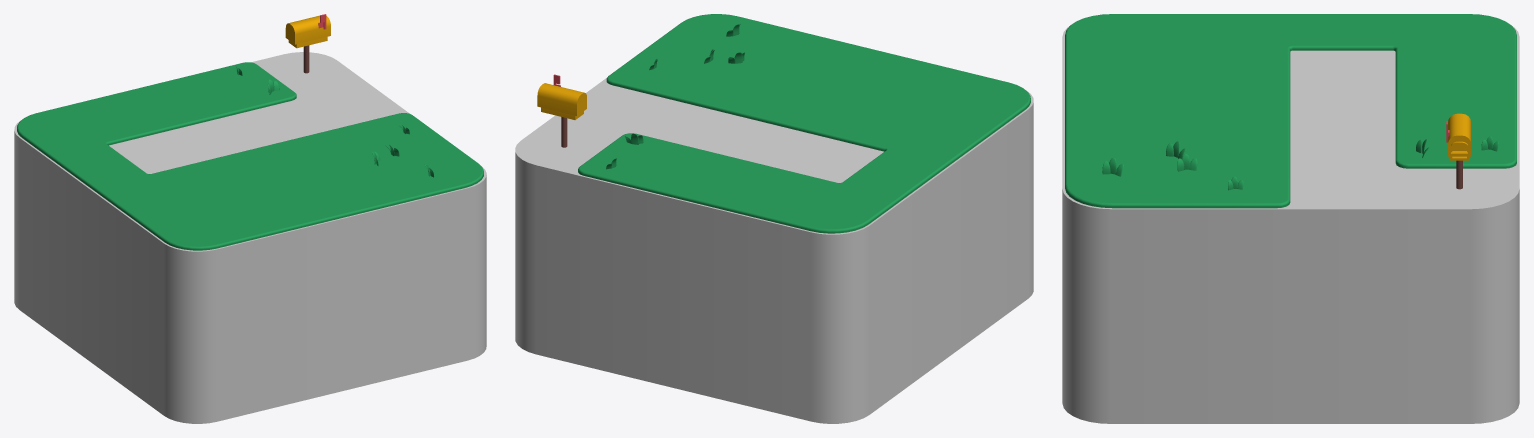
Rendered from BuildingTile.fbx.
3 views of the same model, side by side, from view 1: azimuth 30°, elevation 25°; view 2: azimuth 150°, elevation 25°; view 3: azimuth 270°, elevation 25° (orthographic). The views are drawn at different scales.
Parts seen in each view (by area): view 1: Ground.001, Grass.012, Cube.005; view 2: Ground.001, Grass.012, Cube.005; view 3: Ground.001, Grass.012, Cube.005.
Boxes of the visible parts, x1,y1,x2,y2 form: Ground.001: [14, 52, 486, 423]; Grass.012: [17, 62, 483, 250]; Cube.005: [285, 15, 330, 44]; Ground.001: [515, 78, 1033, 423]; Grass.012: [578, 14, 1030, 233]; Cube.005: [537, 83, 586, 115]; Ground.001: [1062, 26, 1519, 423]; Grass.012: [1065, 14, 1516, 208]; Cube.005: [1448, 113, 1471, 156].
Size of the model in its own units: 800 by 555 by 800.
